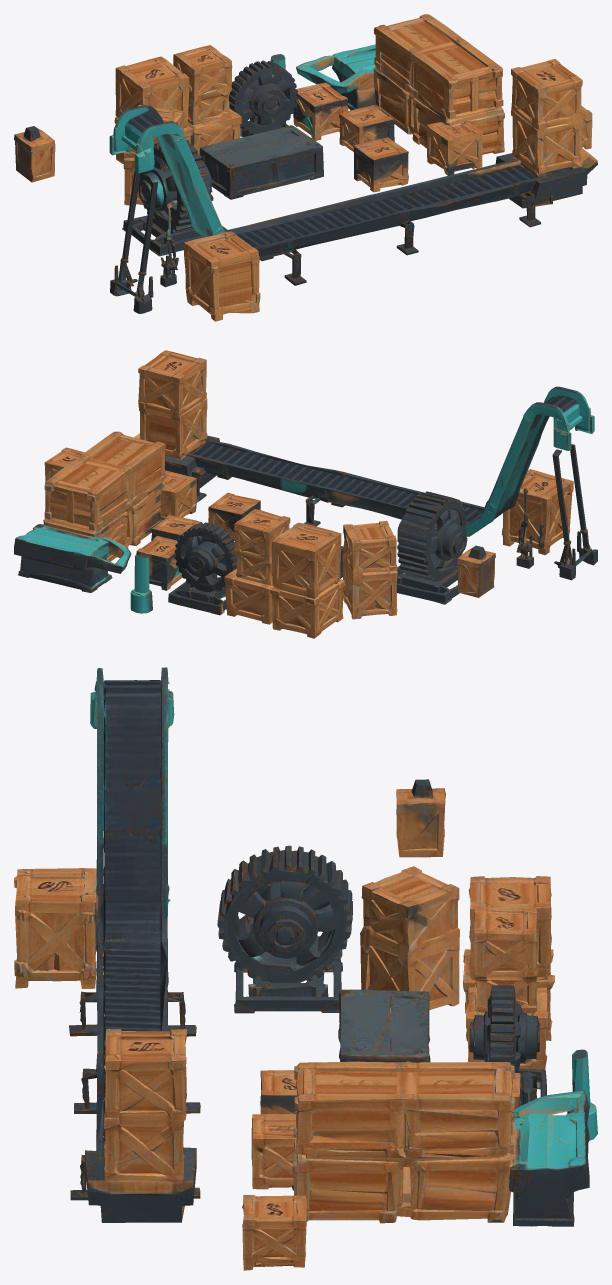
Rendered from ilha-esteiras.glb.
The picture shows the model from 3 angles, top to bottom: view 1: azimuth 30°, elevation 25°; view 2: azimuth 150°, elevation 25°; view 3: azimuth 270°, elevation 25°; orthographic projection. The views are drawn at different scales.
Size of the model in its own units: 1.9 by 0.6586 by 1.31.
1 material, 1 textured.
